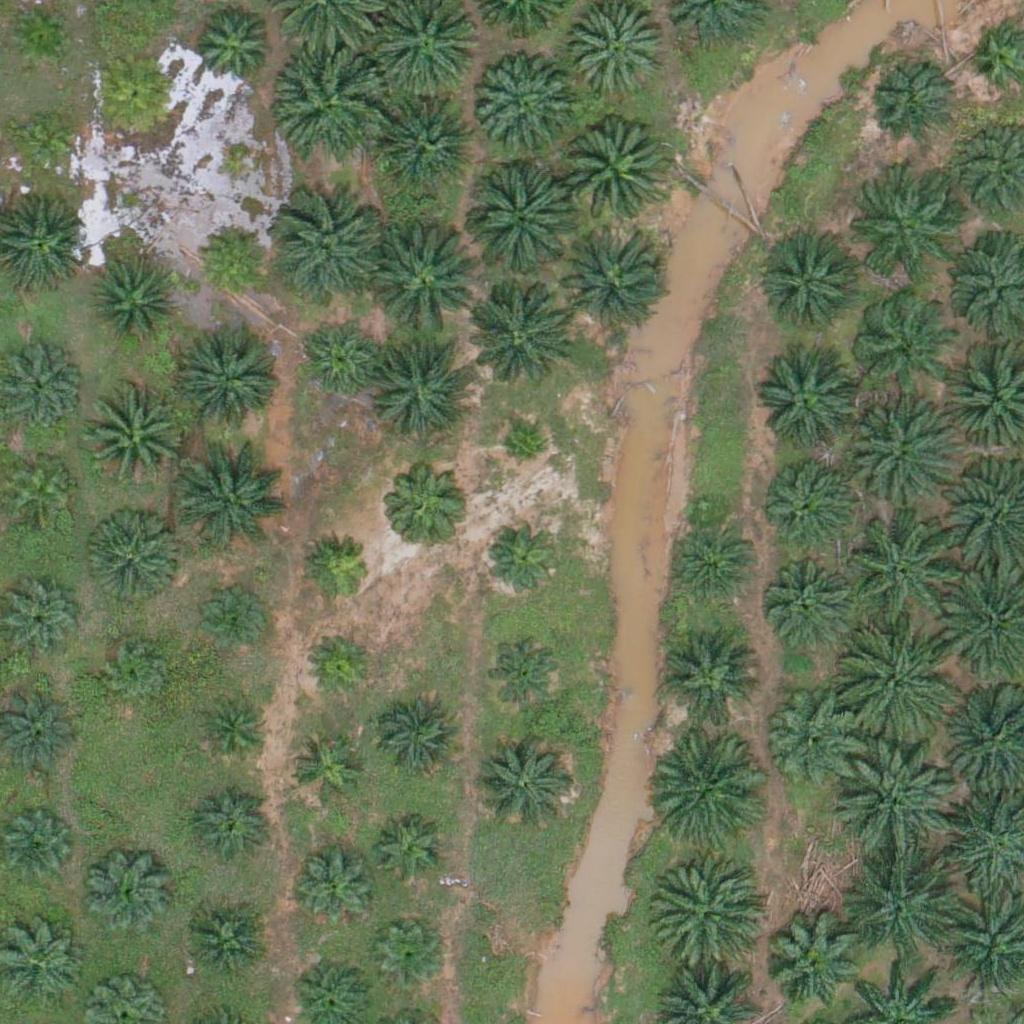Kelapa_Sawit: (652, 729, 765, 843), (836, 746, 949, 859), (648, 853, 761, 966), (842, 398, 955, 511), (844, 627, 957, 740), (461, 163, 574, 276), (458, 280, 571, 393), (276, 44, 389, 157), (273, 192, 386, 305), (365, 222, 477, 336), (847, 844, 959, 957), (178, 441, 290, 554), (849, 512, 961, 625), (557, 115, 669, 228), (554, 223, 666, 336), (370, 332, 482, 445), (473, 735, 573, 836), (83, 387, 183, 488), (180, 326, 280, 427), (846, 180, 946, 281), (852, 292, 952, 393), (758, 446, 858, 547), (758, 354, 858, 455), (764, 228, 864, 329), (660, 626, 760, 727), (568, 1, 668, 102), (473, 54, 573, 155), (762, 912, 862, 1012), (84, 506, 184, 606), (765, 689, 865, 789), (761, 548, 861, 648), (380, 92, 480, 192), (290, 841, 378, 930), (91, 48, 179, 137), (482, 629, 570, 718), (188, 785, 276, 873), (176, 901, 264, 989), (297, 318, 385, 406), (868, 56, 956, 144), (382, 455, 470, 543), (376, 694, 464, 782), (84, 848, 171, 936), (90, 259, 177, 347), (480, 511, 567, 599), (667, 514, 754, 602), (187, 3, 274, 91), (194, 220, 269, 296), (197, 582, 272, 658), (372, 921, 447, 997), (195, 694, 270, 770), (6, 105, 81, 181), (302, 532, 377, 607), (3, 453, 78, 528), (287, 732, 362, 807), (101, 637, 176, 712), (375, 816, 450, 891), (302, 628, 377, 703), (499, 426, 549, 476)
